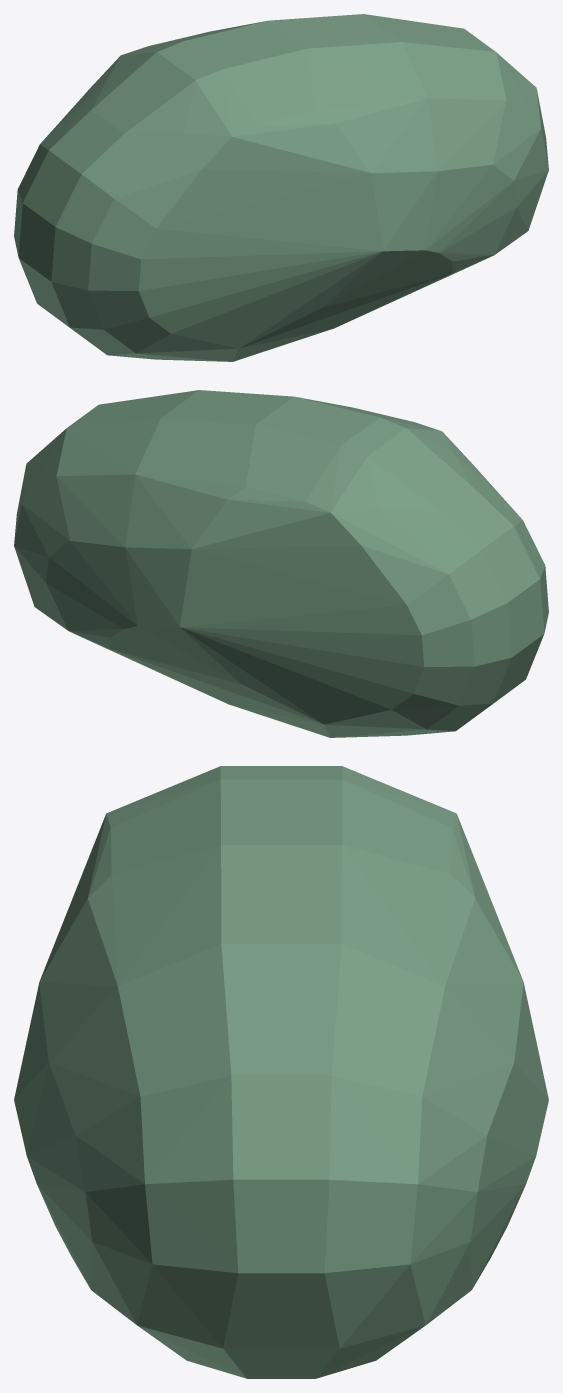
3 views of the same model, one above another, from view 1: azimuth 30°, elevation 25°; view 2: azimuth 150°, elevation 25°; view 3: azimuth 270°, elevation 25° (orthographic). The views are drawn at different scales.
Parts seen in each view (by area): view 1: geometry_0; view 2: geometry_0; view 3: geometry_0.
Boxes of the visible parts, bbox=[...] form: geometry_0: bbox=[14, 14, 548, 361]; geometry_0: bbox=[14, 390, 548, 737]; geometry_0: bbox=[14, 766, 548, 1378].
Size of the model in its own units: 0.0361 by 0.0202 by 0.0214.
